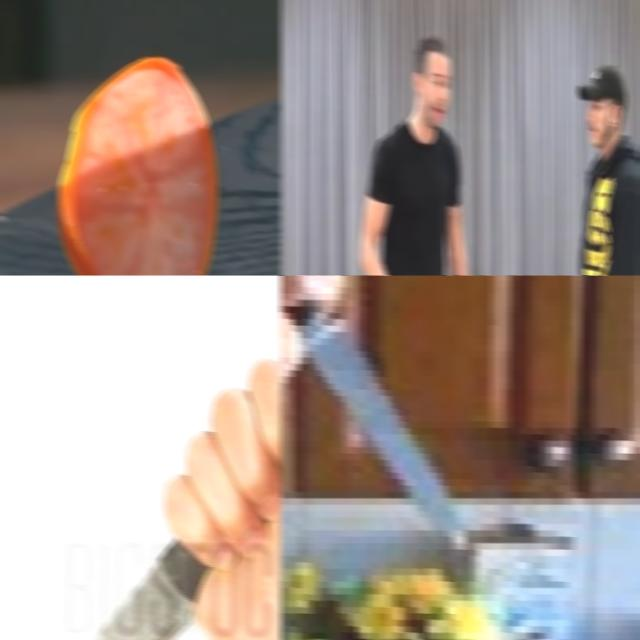Knife: (91, 540, 209, 640)
Knife_Handle: (0, 0, 282, 275), (280, 275, 473, 536)
